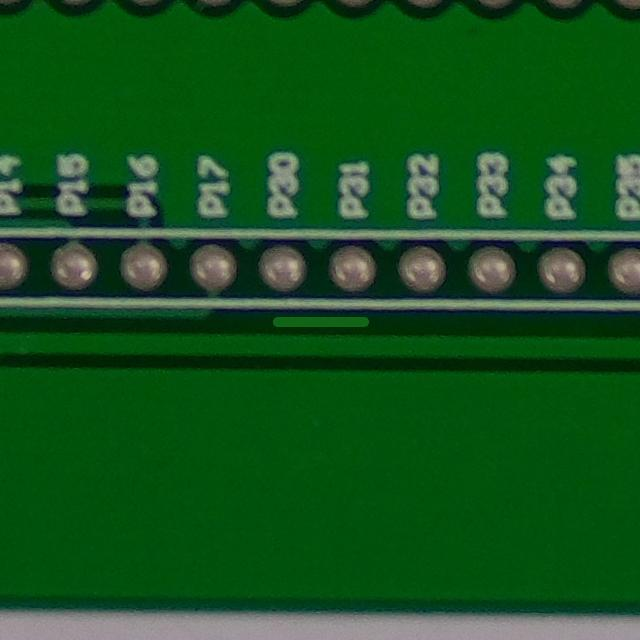spurious_copper: (260, 289, 381, 352)
